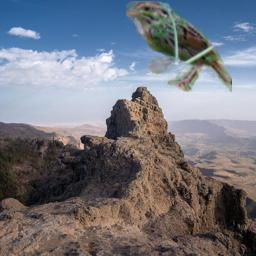Sparrow: (126, 1, 232, 92)
